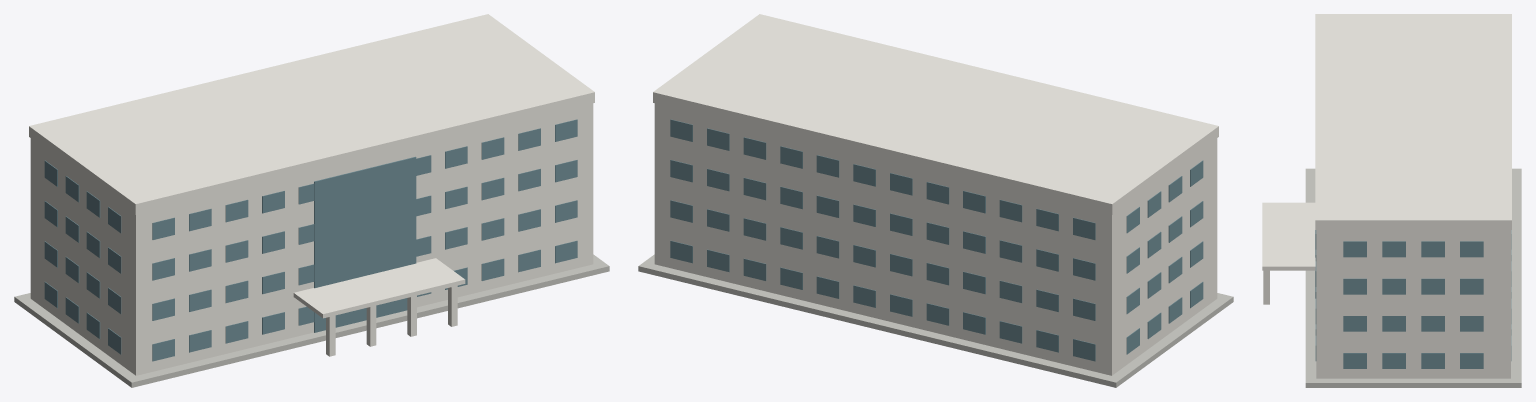
File: campus.glb
The picture shows the model from 3 angles, left to right: view 1: azimuth 30°, elevation 25°; view 2: azimuth 150°, elevation 25°; view 3: azimuth 270°, elevation 25°; orthographic projection. The views are drawn at different scales.
Parts seen in each view (by area): view 1: building; view 2: building; view 3: building.
Boxes of the visible parts, x1=… form: building: x1=14, y1=14, x2=609, y2=387; building: x1=638, y1=14, x2=1233, y2=387; building: x1=1262, y1=14, x2=1521, y2=387.
Size of the model in its own units: 47 by 16.7 by 24.
